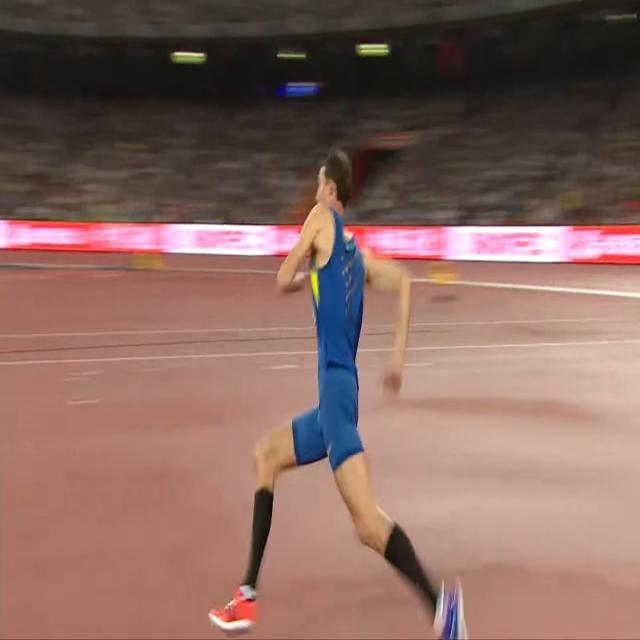run: (208, 149, 468, 640)
